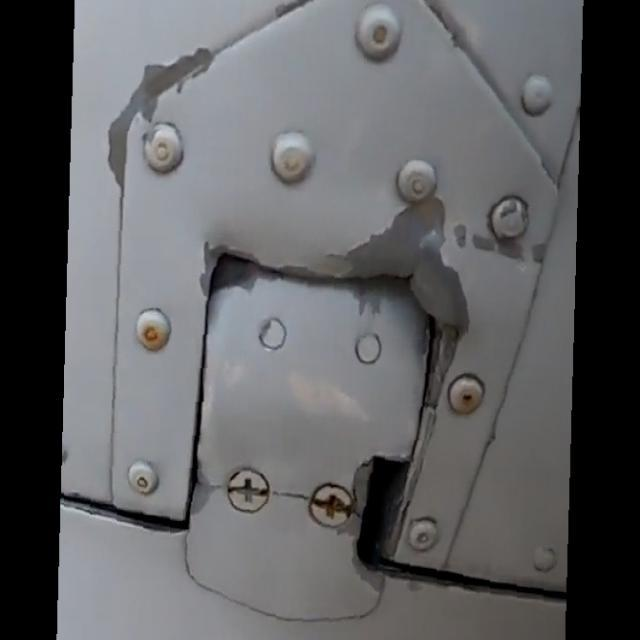crack: (272, 479, 308, 514)
